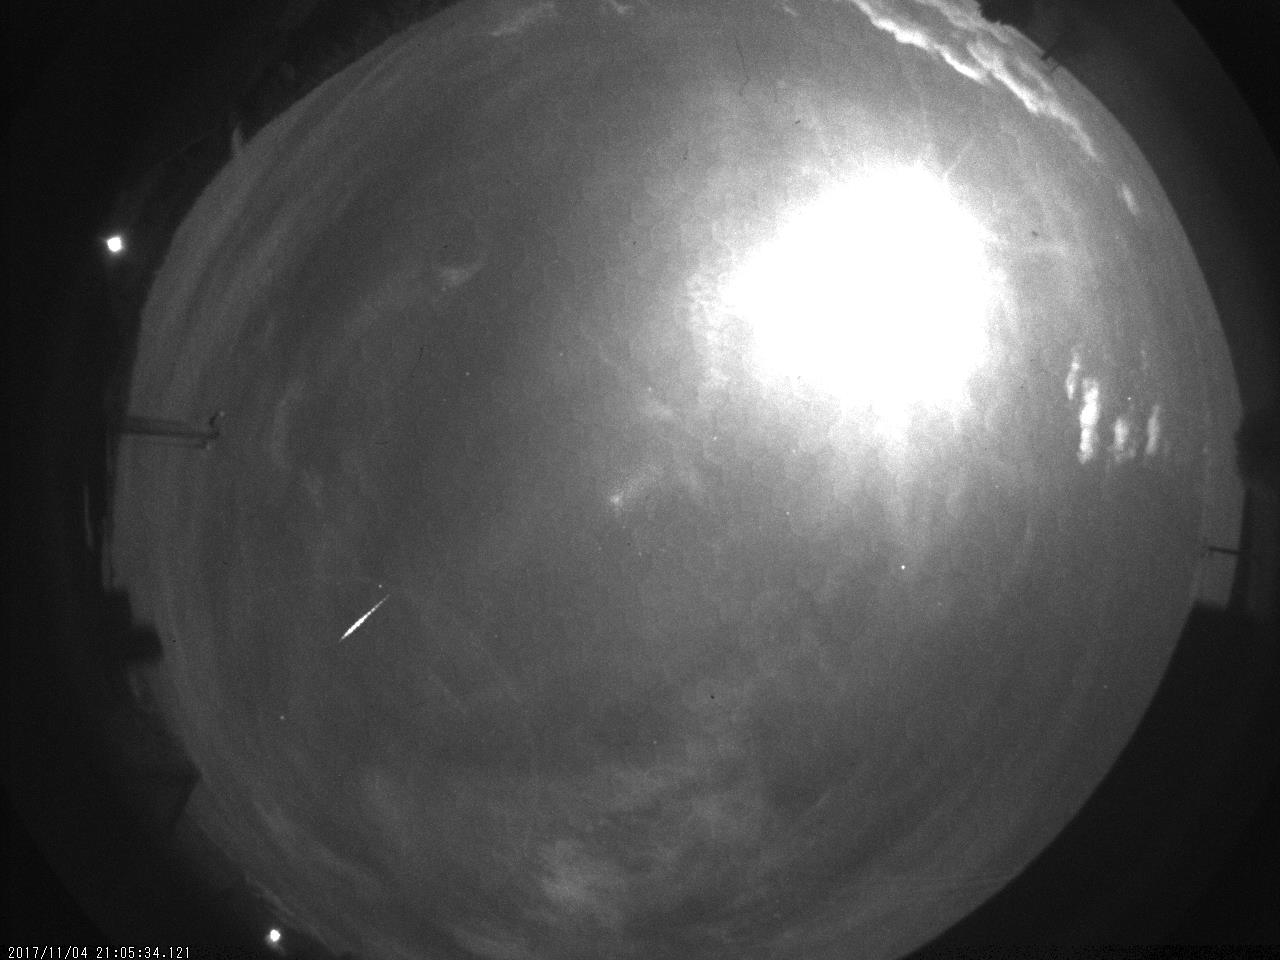meteor: (327, 588, 398, 654)
